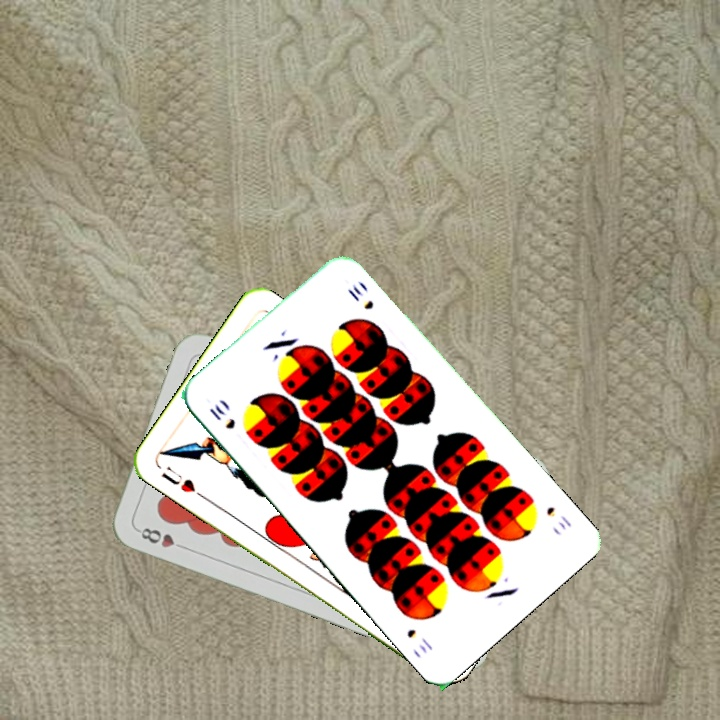H8: (133, 523, 190, 552)
HU: (157, 462, 207, 501)
S10: (205, 400, 238, 432), (542, 502, 575, 533)
